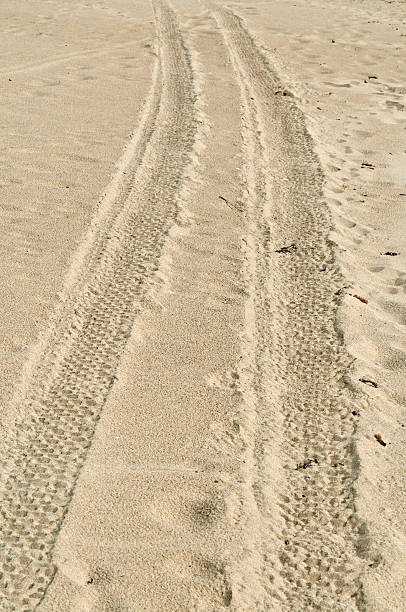vehicle_track: (0, 0, 196, 611), (213, 5, 361, 609)
